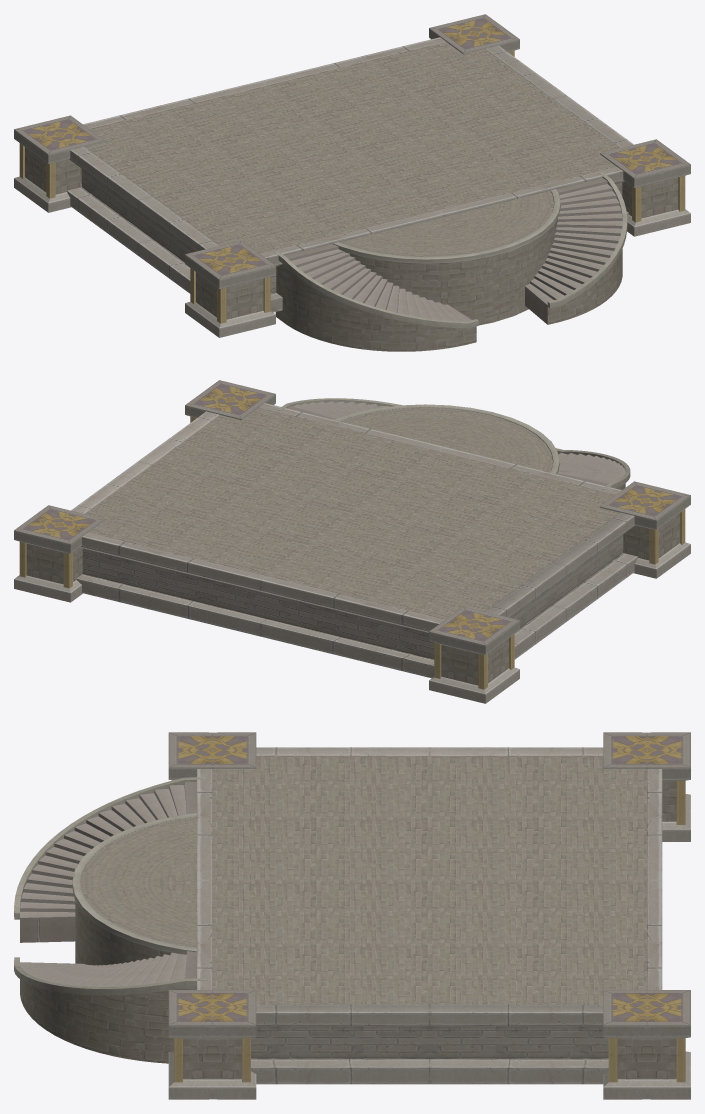
Rendered from mod_zlc_jianzhu067_xy.FBX.
3 renders of one model, top to bottom at view 1: azimuth 30°, elevation 25°; view 2: azimuth 150°, elevation 25°; view 3: azimuth 270°, elevation 25°, orthographic. The views are drawn at different scales.
Parts seen in each view (by area): view 1: mod_zlc_jianzhu067_xy; view 2: mod_zlc_jianzhu067_xy; view 3: mod_zlc_jianzhu067_xy.
Part boxes in pixels (<box>): mod_zlc_jianzhu067_xy: <box>14,14,690,351</box>; mod_zlc_jianzhu067_xy: <box>14,380,690,703</box>; mod_zlc_jianzhu067_xy: <box>14,732,690,1099</box>.
Bounding box in the file's own units: 6275 × 941 × 6134.
Materials: 4 (4 with a texture image).
